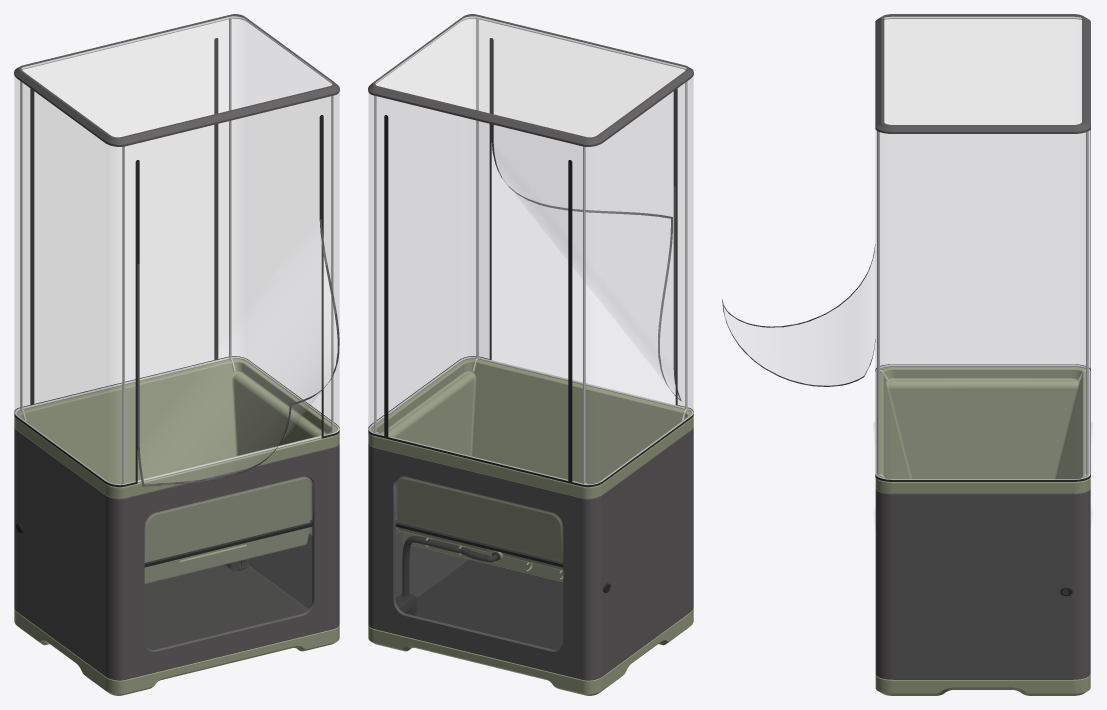
3 views of the same model, side by side, from view 1: azimuth 30°, elevation 25°; view 2: azimuth 150°, elevation 25°; view 3: azimuth 270°, elevation 25° (orthographic). The views are drawn at different scales.
Parts seen in each view (by area): view 1: Body5, Body16, Body24, Body7, Body11, Body12, Body2, Body3, Body1, Body6, Body15, Body4; view 2: Body5, Body24, Body16, Body7, Body11, Body13, Body3, Body2, Body1, Body6, Body15, Body4 (+1 smaller); view 3: Body5, Body24, Body16, Body1, Body2, Body6, Body3, Body4.
Part boxes in pixels (<box>): Body5: <box>14,16,339,484</box>; Body16: <box>14,358,339,583</box>; Body24: <box>14,427,339,680</box>; Body7: <box>145,527,311,649</box>; Body11: <box>144,520,312,649</box>; Body12: <box>145,477,313,562</box>; Body2: <box>14,16,339,485</box>; Body3: <box>14,38,339,487</box>; Body1: <box>14,14,339,146</box>; Body6: <box>14,608,339,695</box>; Body15: <box>248,533,312,608</box>; Body4: <box>137,219,339,486</box>; Body5: <box>368,16,693,484</box>; Body24: <box>368,427,693,680</box>; Body16: <box>368,358,693,582</box>; Body7: <box>396,527,562,649</box>; Body11: <box>395,520,563,649</box>; Body13: <box>394,477,562,562</box>; Body3: <box>368,38,693,487</box>; Body2: <box>368,16,693,485</box>; Body1: <box>368,14,693,146</box>; Body6: <box>368,608,693,695</box>; Body15: <box>395,531,466,597</box>; Body4: <box>491,142,681,401</box>; Body5: <box>724,15,1090,479</box>; Body24: <box>875,488,1090,679</box>; Body16: <box>875,367,1090,493</box>; Body1: <box>875,14,1090,133</box>; Body2: <box>875,16,1090,479</box>; Body6: <box>875,674,1090,695</box>; Body3: <box>875,129,1090,481</box>; Body4: <box>722,244,875,386</box>.
Bounding box in the file's own units: 0.7085 × 1.61 × 0.9481.
